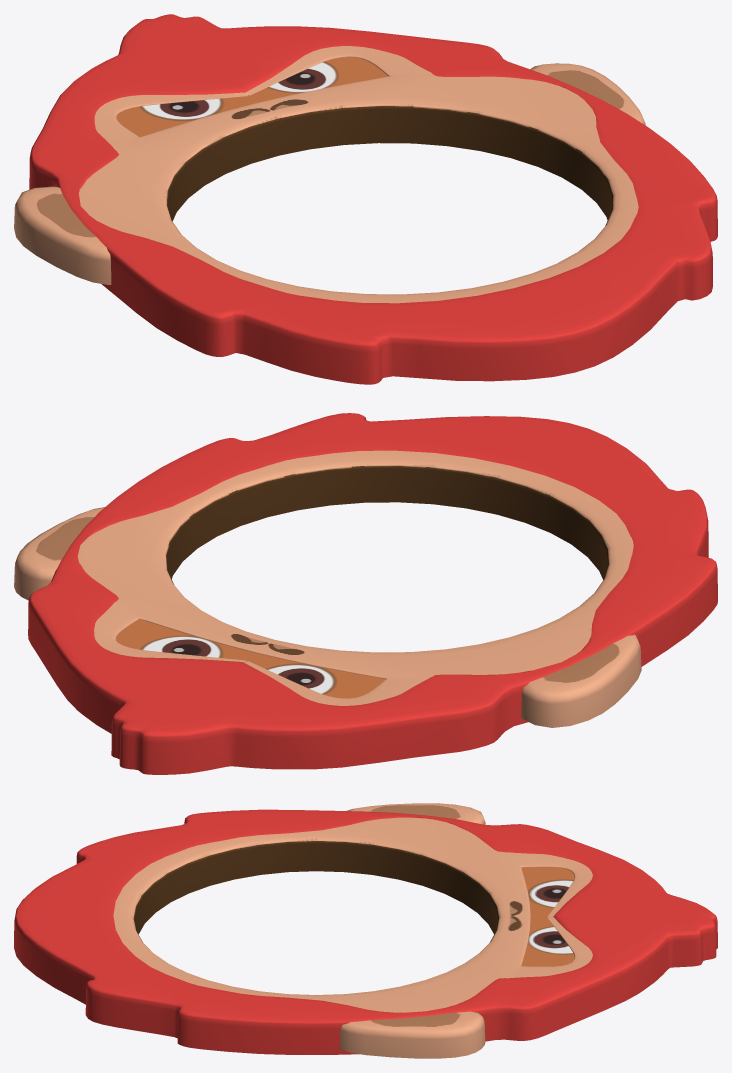
Rendered from Kong_03.fbx.
3 renders of one model, top to bottom at view 1: azimuth 30°, elevation 25°; view 2: azimuth 150°, elevation 25°; view 3: azimuth 270°, elevation 25°, orthographic. The views are drawn at different scales.
Visible parts, largest first — view 1: hole, ears, eye; view 2: hole, ears, eye; view 3: hole, ears, eye.
Part boxes in pixels (box(x1,y1,x2,y2)): hole: box(29, 14, 717, 384); ears: box(14, 63, 645, 284); eye: box(116, 57, 388, 137); hole: box(28, 413, 717, 774); ears: box(14, 507, 641, 727); eye: box(116, 619, 385, 698); hole: box(14, 809, 717, 1054); ears: box(339, 803, 485, 1058); eye: box(521, 867, 574, 966).
Bounding box in the file's own units: 3.01 × 0.2017 × 3.85.
